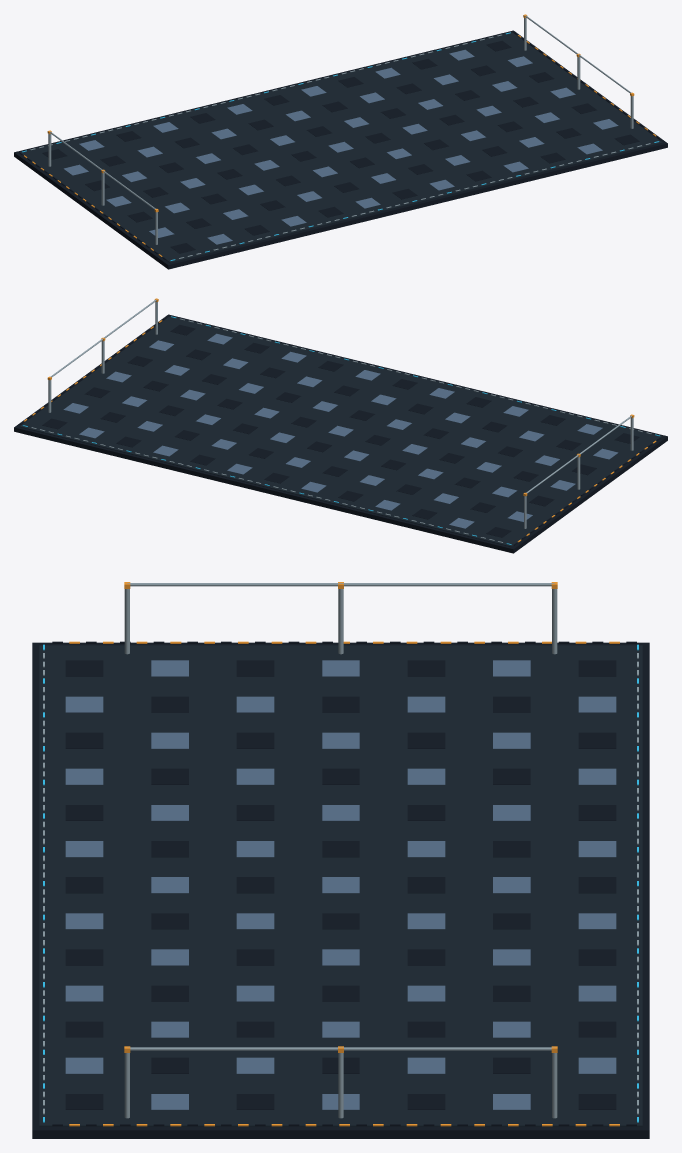
The model's file is 00_L84_CelestialDynamicsArenaBase.fbx.
3 renders of one model, top to bottom at view 1: azimuth 30°, elevation 25°; view 2: azimuth 150°, elevation 25°; view 3: azimuth 270°, elevation 25°, orthographic. The views are drawn at different scales.
Parts seen in each view (by area): view 1: L84_CelestialDynamicsArenaBase; view 2: L84_CelestialDynamicsArenaBase; view 3: L84_CelestialDynamicsArenaBase.
Part boxes in pixels (x1,y1,x2,y2): L84_CelestialDynamicsArenaBase: [14, 14, 667, 269]; L84_CelestialDynamicsArenaBase: [14, 298, 667, 553]; L84_CelestialDynamicsArenaBase: [32, 582, 649, 1138].
Size of the model in its own units: 2700 by 206 by 1445.
